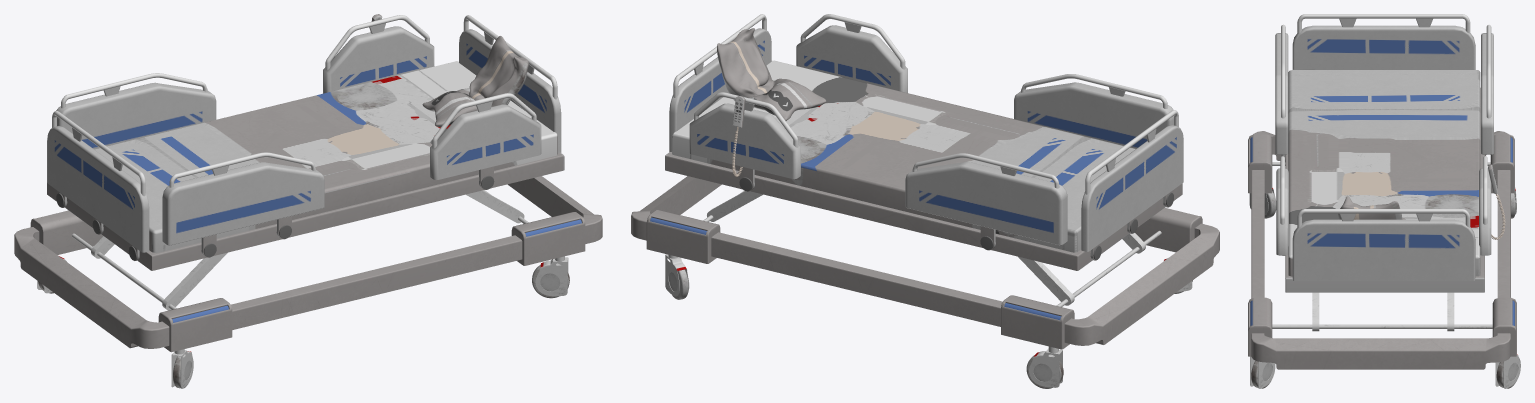
File: bed1.fbx
The picture shows the model from 3 angles, left to right: view 1: azimuth 30°, elevation 25°; view 2: azimuth 150°, elevation 25°; view 3: azimuth 270°, elevation 25°; orthographic projection. The views are drawn at different scales.
Parts seen in each view (by area): view 1: transform46; view 2: transform46; view 3: transform46.
Boxes of the visible parts, x1,y1,x2,y2 form: transform46: [14, 14, 602, 388]; transform46: [631, 14, 1219, 388]; transform46: [1248, 14, 1520, 388].
Size of the model in its own units: 2302 by 982 by 1232.
Materials: 2 (2 with a texture image).
